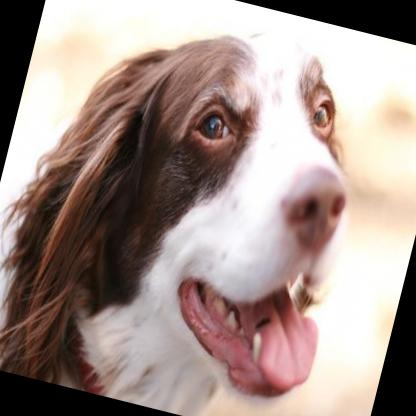Brittany_spaniel: (0, 0, 389, 416)
